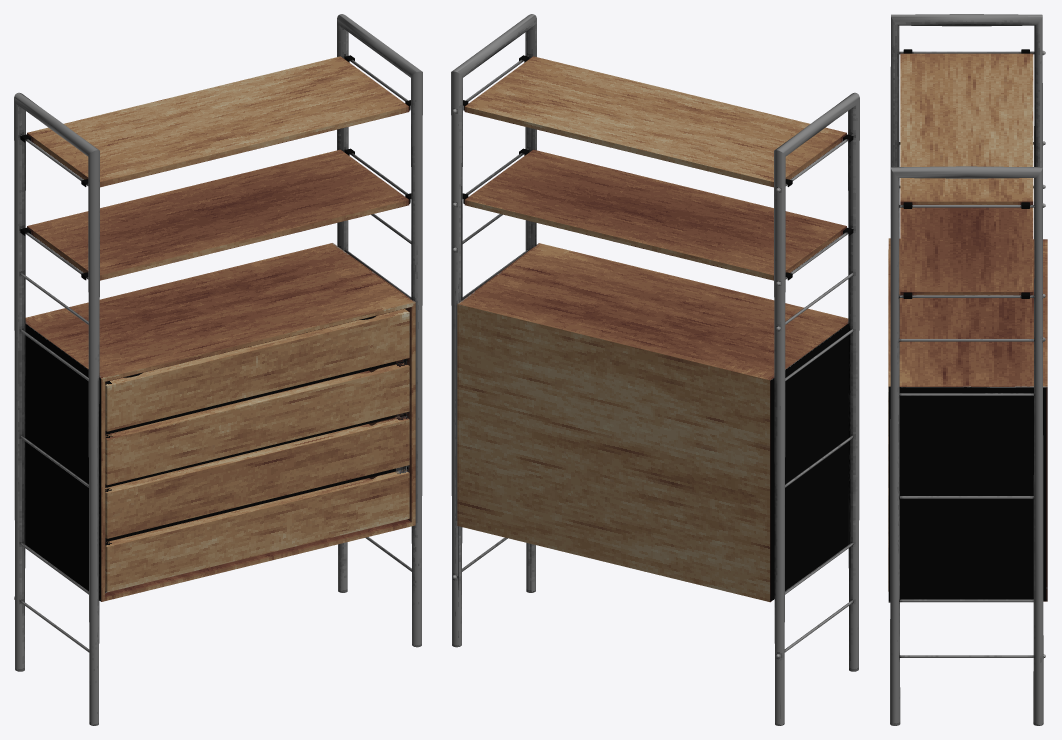
File: drawer_cabinet.glb
The picture shows the model from 3 angles, left to right: view 1: azimuth 30°, elevation 25°; view 2: azimuth 150°, elevation 25°; view 3: azimuth 270°, elevation 25°; orthographic projection. The views are drawn at different scales.
Parts seen in each view (by area): view 1: body; view 2: body; view 3: body.
Part boxes in pixels (x1=…): body: x1=14, y1=14, x2=422, y2=725; body: x1=451, y1=14, x2=859, y2=725; body: x1=888, y1=14, x2=1047, y2=725.
Bounding box in the file's own units: 1.14 × 1.88 × 0.4881.
Materials: 1 (1 with a texture image).
